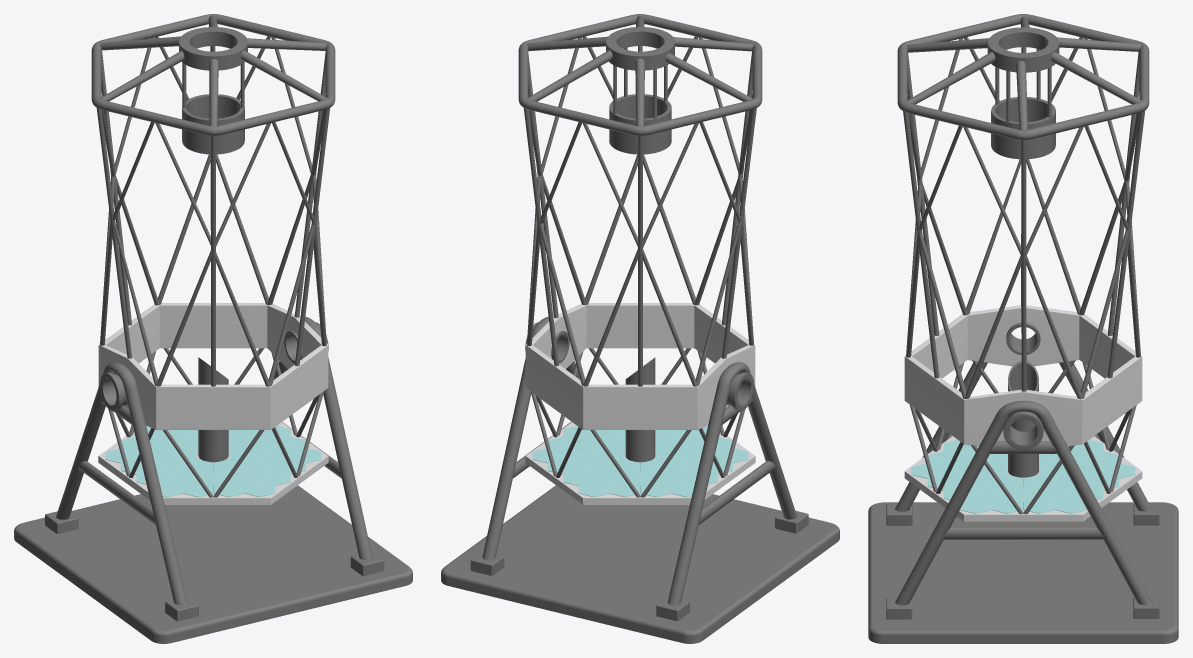
Rendered from Keck_Telescope_rotateAxis1.fbx.
3 renders of one model, left to right at view 1: azimuth 30°, elevation 25°; view 2: azimuth 150°, elevation 25°; view 3: azimuth 270°, elevation 25°, orthographic. The views are drawn at different scales.
Parts seen in each view (by area): view 1: Foundation, Elevation_Ring_UV, Legs1 (×2), Spider_Frame, Primary_Mirror, Secondary_M_Bottom, Secondary_M_Top, Shell, Leg_5, Leg_3, Leg_4, Armature2 (+22 smaller); view 2: Foundation, Elevation_Ring_UV, Legs1 (×2), Spider_Frame, Primary_Mirror, Secondary_M_Bottom, Secondary_M_Top, Shell, Leg_1, Leg_3, Leg_2, Armature2 (+21 smaller); view 3: Foundation, Elevation_Ring_UV, Legs1 (×2), Spider_Frame, Primary_Mirror, Secondary_M_Bottom, Secondary_M_Top, Armature2, Nasmyth (×2), Shell, Leg_6, Leg_1 (+27 smaller).
Part boxes in pixels (box(x1,y1,x2,y2)): Foundation: box(14, 485, 412, 643); Elevation_Ring_UV: box(98, 303, 328, 429); Legs1 (×2): box(56, 316, 372, 605); Spider_Frame: box(91, 14, 335, 135); Primary_Mirror: box(98, 422, 328, 504); Secondary_M_Bottom: box(182, 94, 244, 154); Secondary_M_Top: box(179, 27, 247, 70); Shell: box(198, 357, 228, 462); Leg_5: box(295, 108, 329, 366); Leg_3: box(96, 108, 132, 358); Leg_4: box(211, 136, 215, 386); Armature2: box(78, 461, 155, 524); Foundation: box(441, 485, 839, 643); Elevation_Ring_UV: box(525, 303, 755, 429); Legs1 (×2): box(482, 316, 796, 605); Spider_Frame: box(518, 14, 762, 135); Primary_Mirror: box(525, 422, 755, 504); Secondary_M_Bottom: box(609, 94, 671, 154); Secondary_M_Top: box(606, 27, 674, 70); Shell: box(625, 357, 655, 462); Leg_1: box(523, 108, 558, 366); Leg_3: box(721, 108, 756, 358); Leg_2: box(638, 136, 642, 386); Armature2: box(699, 460, 775, 524); Foundation: box(868, 502, 1178, 643); Elevation_Ring_UV: box(904, 305, 1142, 446); Legs1 (×2): box(895, 361, 1151, 605); Spider_Frame: box(897, 14, 1149, 140); Primary_Mirror: box(904, 436, 1142, 521); Secondary_M_Bottom: box(991, 97, 1055, 159); Secondary_M_Top: box(987, 27, 1059, 72); Armature2: box(943, 527, 1103, 539); Nasmyth (×2): box(1003, 322, 1043, 450); Shell: box(1008, 361, 1038, 477); Leg_6: box(1021, 140, 1026, 391); Leg_1: box(1107, 110, 1145, 378).
Size of the model in its own units: 13.02 by 24.85 by 13.02.
